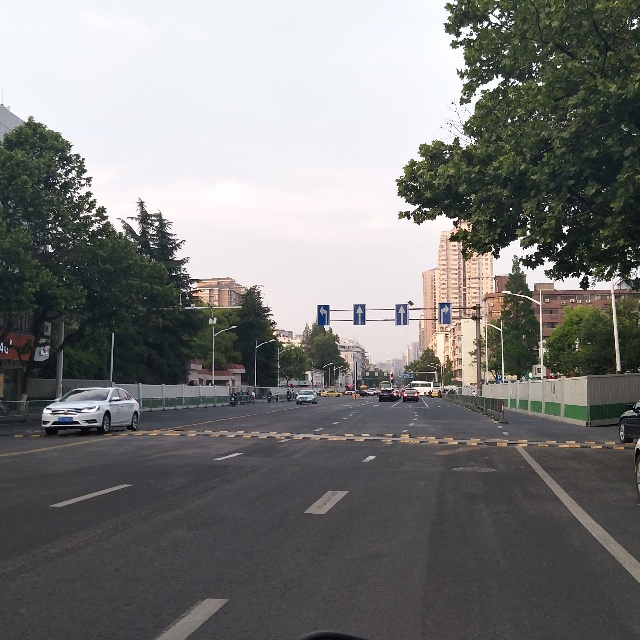left: (317, 304, 330, 324)
right: (440, 303, 452, 325)
straight: (396, 304, 408, 325), (354, 304, 364, 325)
